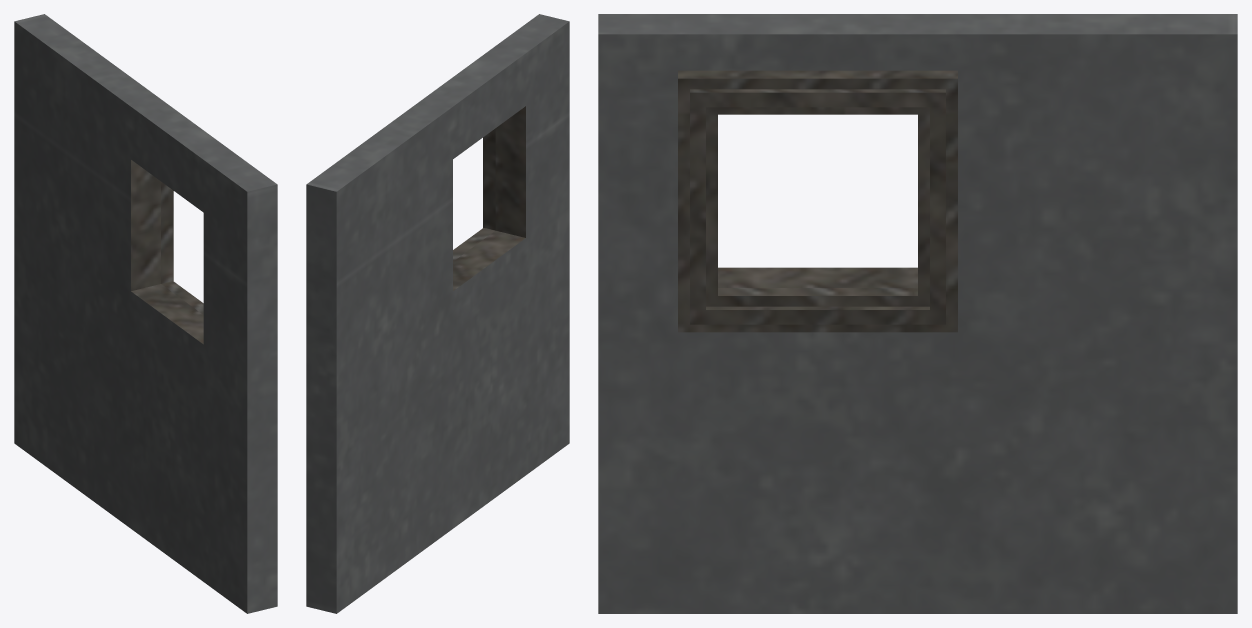
The model's file is wall_okno.fbx.
3 renders of one model, left to right at view 1: azimuth 30°, elevation 25°; view 2: azimuth 150°, elevation 25°; view 3: azimuth 270°, elevation 25°, orthographic. The views are drawn at different scales.
Parts seen in each view (by area): view 1: Plane.027; view 2: Plane.027; view 3: Plane.027.
Part boxes in pixels (x1,y1,x2,y2): Plane.027: (14, 14, 277, 613); Plane.027: (306, 14, 569, 613); Plane.027: (598, 14, 1237, 613).
Size of the model in its own units: 23.43 by 200 by 200.
